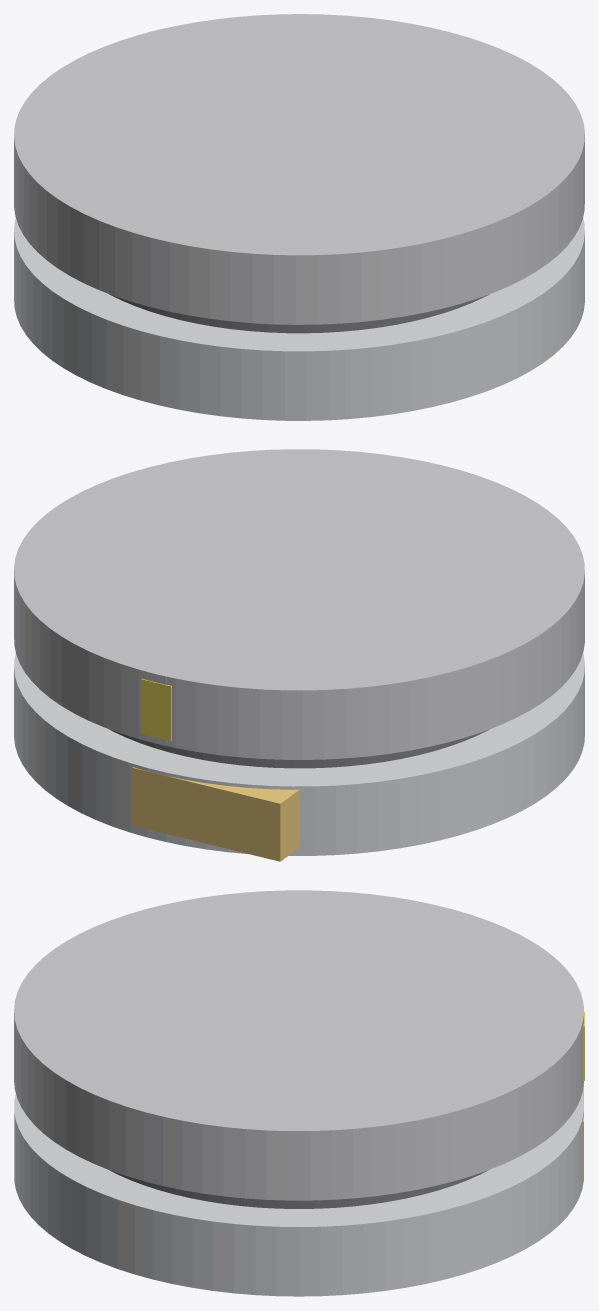
The model's file is robo01_rotor_m_rot90.glb.
3 renders of one model, top to bottom at view 1: azimuth 30°, elevation 25°; view 2: azimuth 150°, elevation 25°; view 3: azimuth 270°, elevation 25°, orthographic.
Parts seen in each view (by area): view 1: half_b_rotor, base, bearing; view 2: half_b_rotor, base, drive, bearing, half_b_mark; view 3: half_b_rotor, base, bearing.
Part boxes in pixels (x1,y1,x2,y2): half_b_rotor: [14, 14, 584, 324]; base: [14, 218, 584, 420]; bearing: [109, 294, 489, 333]; half_b_rotor: [14, 449, 584, 759]; base: [14, 653, 584, 855]; drive: [132, 767, 299, 861]; bearing: [109, 729, 489, 768]; half_b_mark: [141, 678, 171, 740]; half_b_rotor: [14, 890, 583, 1200]; base: [14, 1093, 583, 1296]; bearing: [109, 1170, 488, 1208].
Bounding box in the file's own units: 1.25 × 0.4 × 1.25.
